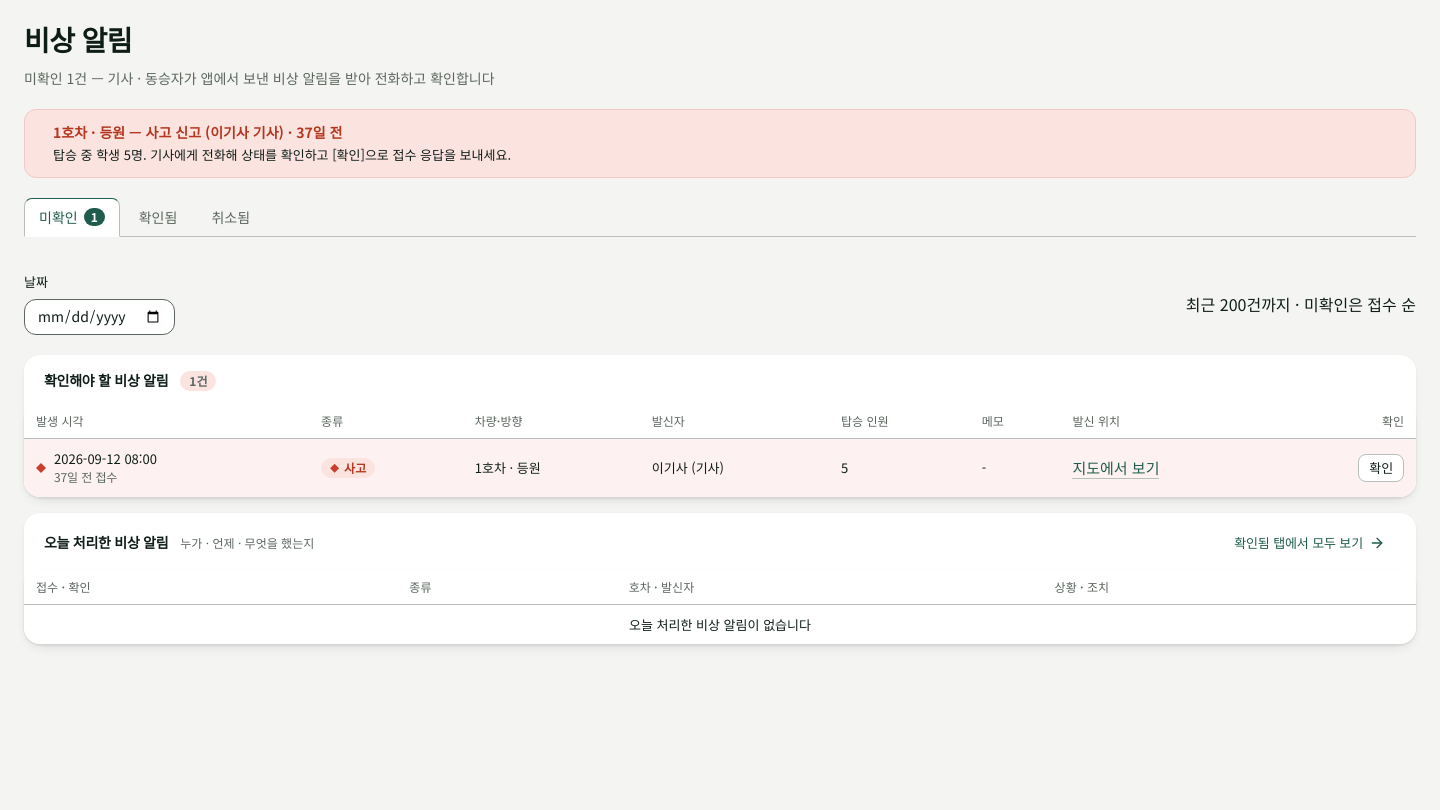
EmergencyList — 연락처·자동 갱신·위치 › 행을 열면 배치 기사·동승자 연락처가 상세 대화상자에 보인다
Click the text "1호차 · 등원" at (551, 468), box x1=463 y1=438 x2=640 y2=497
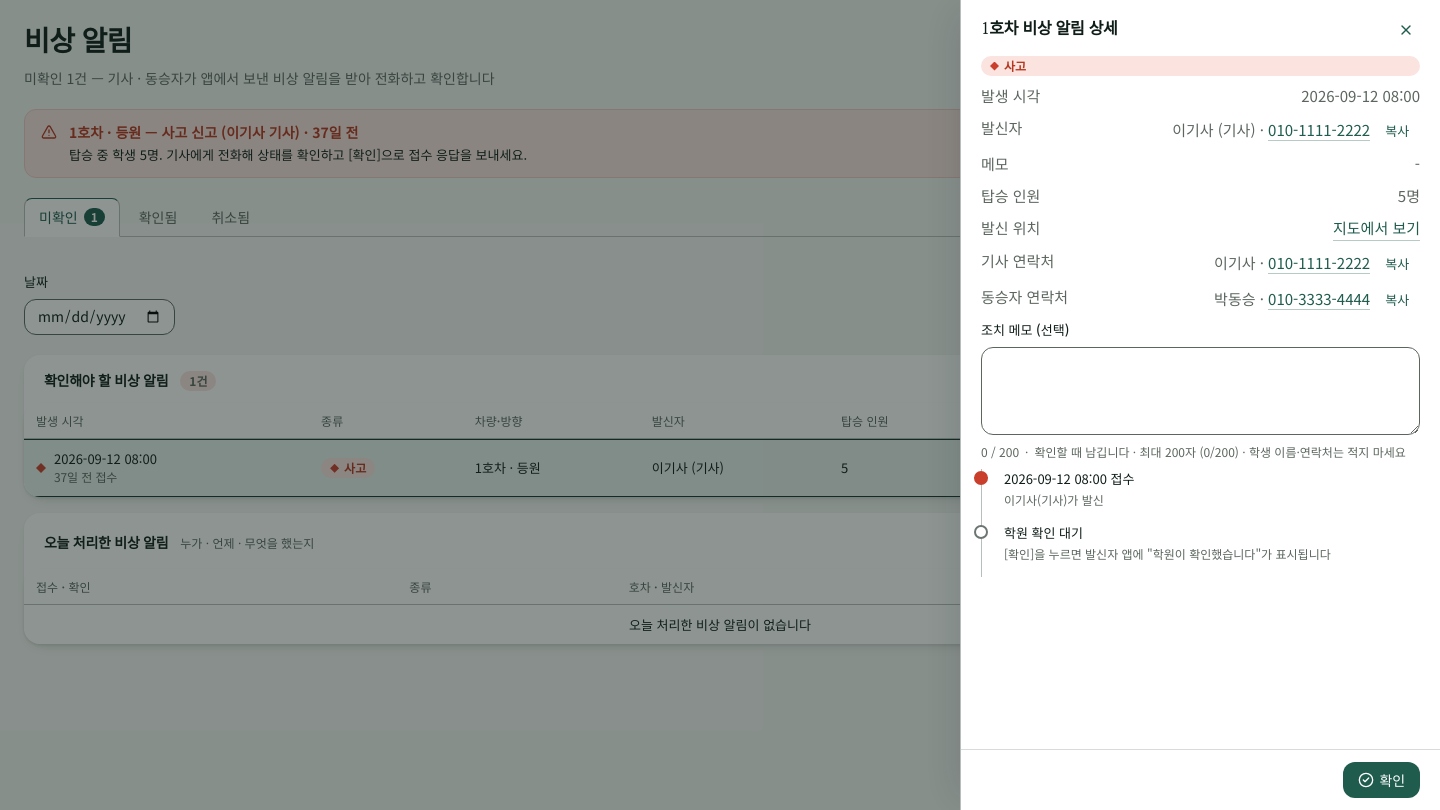
Result: the link "010-3333-4444" is shown at x1=1268 y1=288 x2=1370 y2=310
Result: the 1st link "010-1111-2222" is shown at x1=1268 y1=118 x2=1370 y2=140
Result: the text "동승자 연락처" is shown at x1=981 y1=285 x2=1068 y2=313
